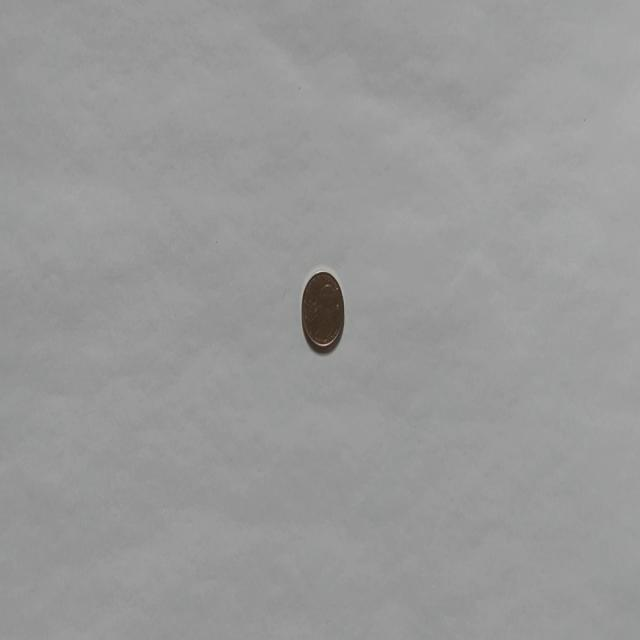seribu rupiah koin: (300, 267, 345, 353)
